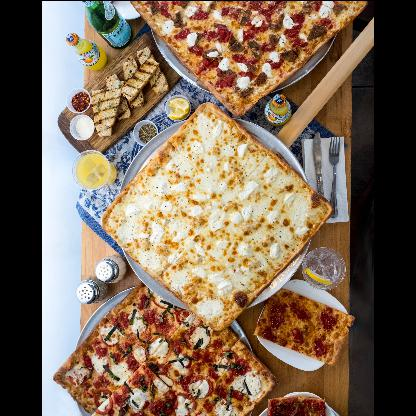pizza: (99, 102, 334, 331), (51, 283, 274, 415), (129, 1, 367, 115), (252, 288, 356, 364), (267, 395, 327, 415)
